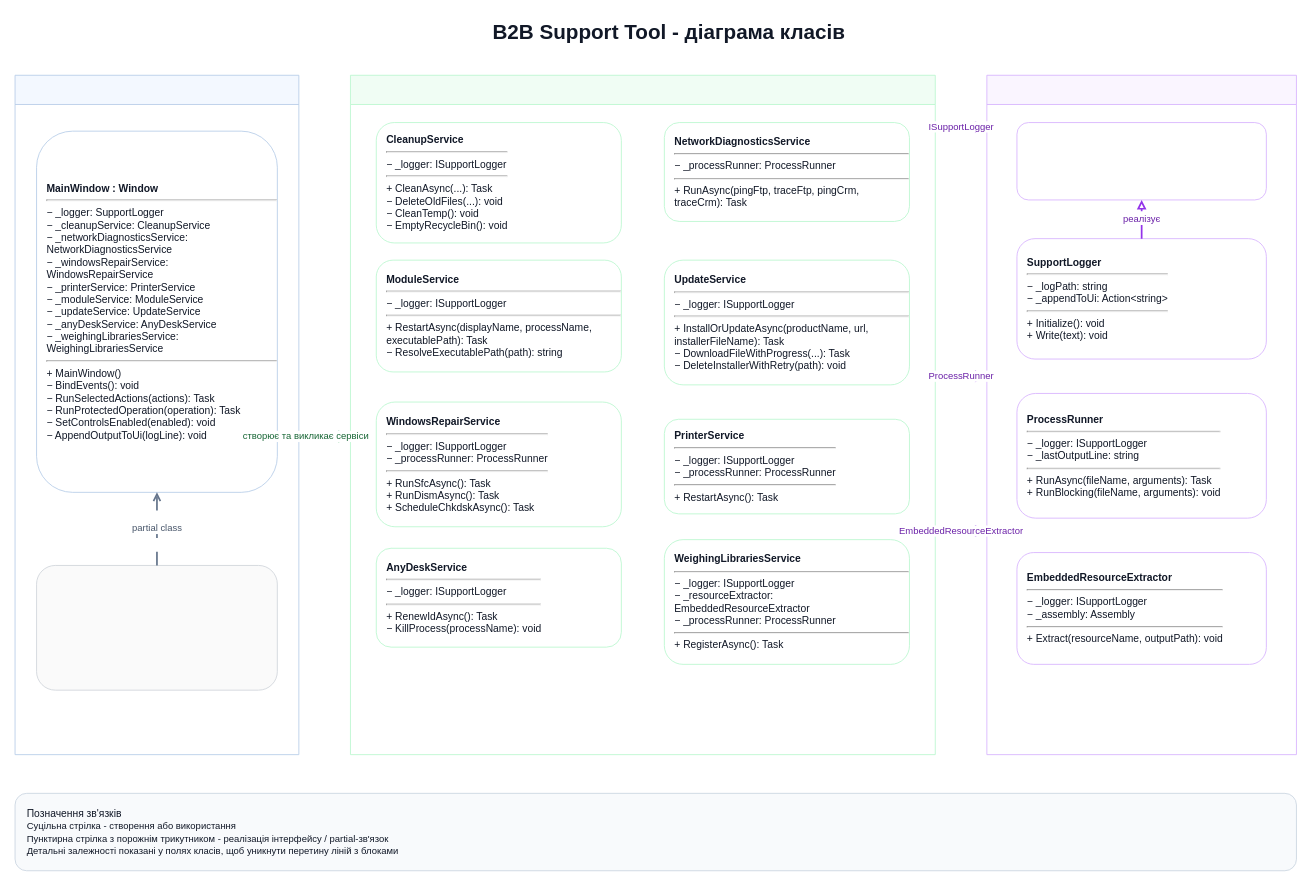
Some shapes in this 1312 by 886 pixel diagram are drawn without their labels. Here are the shapes that lost their labels. From the top down, the box of each, then its label:
(1016, 122, 1266, 200): <<interface>> ISupportLogger + Write(text): void
(14, 74, 299, 755): Інтерфейс
(350, 74, 935, 755): Сервісні класи
(986, 74, 1296, 755): Інфраструктурні класи
(36, 565, 277, 690): MainWindow.xaml UI-елементи • вкладки • кнопки • чекбокси • outputBox
